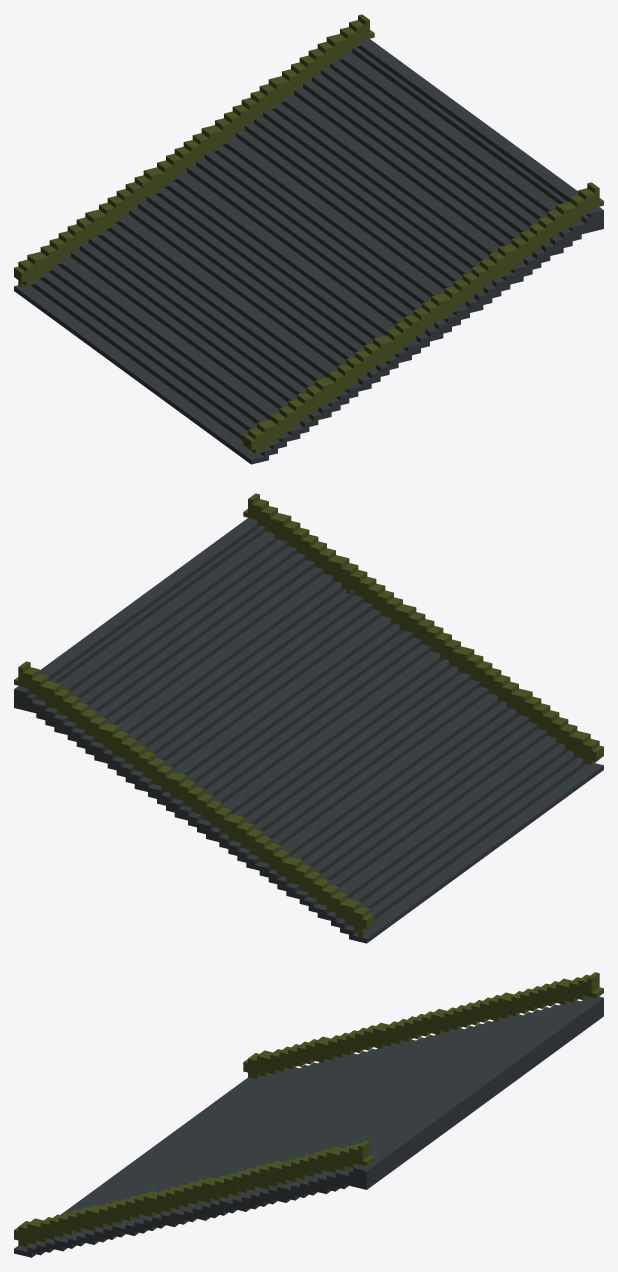
File: heavy_cargo_helicopter_ramp.glb
3 renders of one model, top to bottom at view 1: azimuth 30°, elevation 25°; view 2: azimuth 150°, elevation 25°; view 3: azimuth 330°, elevation 25°, orthographic.
Visible parts, largest first — view 1: body:compound; view 2: body:compound; view 3: body:compound.
Part boxes in pixels (x1,y1,x2,y2): body:compound: (14, 14, 603, 464); body:compound: (14, 493, 603, 943); body:compound: (14, 972, 603, 1257).
Bounding box in the file's own units: 2.47 × 1.28 × 2.88.
